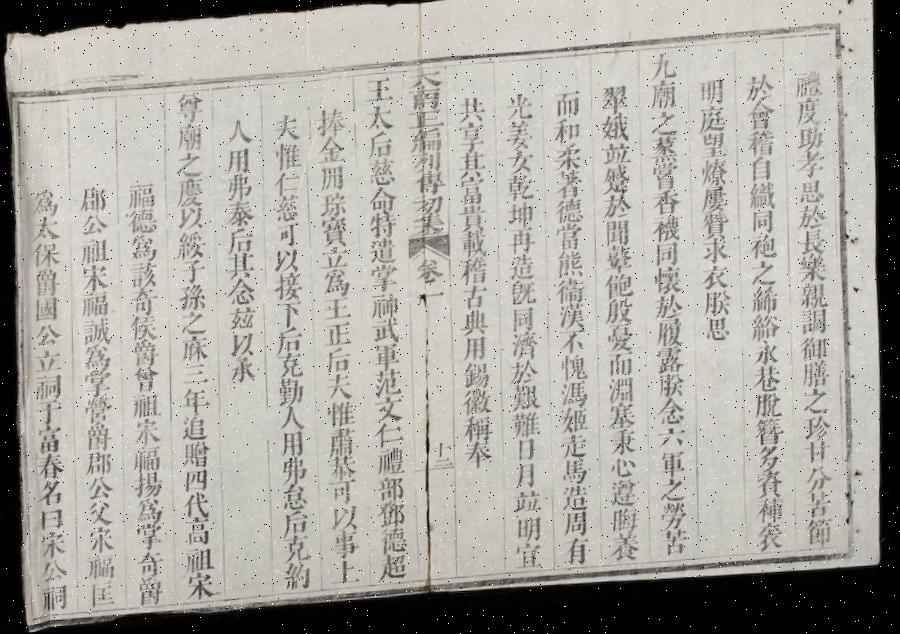c: (171, 92, 206, 126), (501, 123, 536, 156), (317, 218, 351, 251), (742, 78, 777, 110), (790, 75, 826, 106), (123, 180, 159, 211), (406, 130, 445, 158), (454, 96, 488, 128), (174, 231, 208, 263), (694, 80, 728, 112), (222, 116, 256, 148), (178, 387, 213, 418), (609, 537, 644, 568), (548, 93, 584, 123), (314, 109, 348, 140), (646, 86, 680, 117), (374, 449, 408, 480), (330, 531, 364, 562), (795, 260, 830, 290), (510, 414, 545, 444), (125, 234, 160, 264), (599, 170, 634, 200), (175, 284, 210, 314), (598, 118, 633, 148), (182, 574, 219, 602), (405, 89, 443, 116), (270, 114, 302, 146), (598, 88, 630, 120), (646, 56, 679, 87), (135, 577, 168, 608), (603, 329, 637, 359), (270, 144, 304, 174), (748, 292, 782, 322), (551, 147, 585, 177), (130, 418, 164, 448), (796, 288, 830, 318), (803, 524, 837, 554), (458, 176, 488, 210), (84, 525, 118, 555), (280, 536, 314, 566), (744, 136, 778, 166), (282, 564, 316, 594), (325, 430, 359, 460), (696, 164, 730, 194), (77, 237, 112, 266), (361, 78, 396, 107), (84, 553, 120, 581), (79, 318, 115, 346), (124, 208, 160, 236), (182, 548, 218, 576), (371, 424, 408, 451), (502, 95, 534, 126), (754, 474, 786, 505), (649, 166, 681, 197), (34, 423, 66, 454), (365, 160, 398, 190), (367, 266, 400, 296), (653, 324, 686, 354), (553, 254, 586, 284), (77, 184, 110, 214), (508, 336, 541, 366), (315, 138, 348, 168), (30, 240, 63, 270), (746, 188, 779, 218), (755, 528, 788, 558), (457, 208, 490, 238), (173, 124, 206, 154), (173, 178, 206, 208), (557, 358, 590, 388), (503, 178, 536, 208), (224, 253, 258, 282), (655, 403, 689, 432), (324, 403, 358, 432), (748, 320, 782, 349), (318, 272, 352, 301), (752, 424, 786, 453), (78, 264, 112, 293), (558, 410, 592, 439), (378, 529, 412, 558), (86, 581, 120, 610), (656, 454, 690, 483), (82, 423, 116, 452), (179, 442, 213, 471), (222, 201, 256, 230), (375, 503, 410, 531), (125, 262, 160, 290), (377, 556, 412, 584), (461, 418, 496, 446), (133, 551, 168, 579), (370, 372, 405, 400), (554, 308, 590, 335), (608, 483, 640, 513), (413, 260, 445, 290), (552, 174, 584, 204), (696, 110, 728, 140), (658, 506, 690, 536), (182, 518, 214, 548), (744, 108, 776, 138), (792, 104, 824, 134), (272, 274, 304, 304), (607, 433, 640, 462), (751, 371, 784, 400), (652, 272, 685, 301), (650, 220, 683, 249), (462, 444, 495, 473), (275, 380, 308, 409), (372, 398, 406, 426), (81, 370, 115, 398), (132, 472, 166, 500), (362, 107, 396, 135), (368, 296, 402, 324), (457, 262, 491, 290), (127, 314, 161, 342), (509, 388, 543, 416), (554, 282, 588, 310), (797, 316, 831, 344), (130, 446, 164, 474), (552, 228, 586, 256), (172, 152, 206, 180), (793, 157, 827, 185), (513, 546, 547, 574), (658, 534, 692, 562), (132, 523, 166, 551), (178, 416, 212, 444), (178, 337, 212, 365), (793, 211, 828, 238), (324, 458, 360, 484), (654, 430, 690, 456), (562, 541, 593, 571), (130, 340, 162, 369), (461, 365, 493, 394), (506, 231, 538, 260), (366, 213, 398, 242), (278, 458, 310, 487), (803, 497, 835, 526), (800, 394, 832, 423), (29, 188, 61, 217), (364, 134, 396, 163), (698, 217, 730, 246), (558, 437, 591, 465), (799, 368, 832, 396), (323, 376, 356, 404), (461, 392, 494, 420), (603, 277, 636, 305), (222, 174, 255, 202), (699, 270, 732, 298), (602, 250, 635, 278), (404, 112, 446, 134), (606, 407, 639, 435), (329, 506, 362, 534), (82, 344, 115, 372), (39, 584, 72, 612), (455, 126, 488, 154), (320, 324, 354, 351), (649, 195, 683, 222), (552, 202, 586, 229), (411, 174, 446, 200), (272, 196, 302, 226), (323, 349, 354, 378), (32, 267, 61, 298), (32, 373, 64, 401), (560, 488, 592, 516), (460, 314, 492, 342), (654, 352, 686, 380), (84, 450, 116, 478), (605, 381, 637, 409), (604, 303, 636, 331), (82, 396, 114, 424), (128, 288, 160, 316), (748, 266, 780, 294), (35, 452, 67, 480), (609, 511, 641, 539), (456, 152, 488, 180), (38, 530, 70, 558), (804, 471, 836, 499), (648, 139, 680, 167), (513, 518, 545, 546), (224, 228, 256, 256), (697, 138, 729, 166), (280, 486, 312, 514), (36, 478, 68, 506), (181, 492, 213, 520), (753, 398, 785, 426), (226, 280, 258, 308), (702, 296, 734, 324), (129, 367, 162, 394), (698, 192, 731, 219), (652, 299, 685, 326), (129, 393, 162, 420), (550, 122, 583, 149), (795, 185, 828, 212), (375, 478, 408, 505), (647, 115, 680, 142), (133, 498, 166, 525), (798, 342, 832, 368), (320, 299, 354, 325), (600, 198, 634, 224), (78, 292, 112, 318), (507, 364, 541, 390), (330, 561, 364, 587), (368, 322, 402, 348), (796, 236, 830, 262), (404, 70, 444, 92), (602, 223, 632, 252), (460, 288, 491, 316), (506, 258, 537, 286), (508, 284, 539, 312), (274, 330, 306, 357), (366, 189, 398, 216), (558, 386, 590, 413), (747, 240, 779, 267), (410, 198, 446, 222), (366, 241, 398, 268), (794, 132, 826, 159), (802, 421, 834, 448), (458, 235, 490, 262), (513, 493, 545, 520), (655, 378, 688, 404), (280, 513, 313, 539), (755, 504, 788, 530), (326, 482, 359, 508), (600, 146, 633, 172), (316, 195, 350, 220), (272, 248, 302, 276), (222, 148, 252, 176), (754, 451, 784, 479), (410, 216, 445, 240), (561, 514, 591, 542), (86, 500, 116, 528), (278, 432, 308, 460), (505, 206, 536, 233), (275, 355, 306, 382), (560, 462, 591, 489), (273, 304, 305, 330), (177, 312, 209, 338), (504, 154, 536, 180), (33, 348, 65, 374), (38, 558, 70, 584), (658, 482, 690, 508), (78, 212, 110, 238), (371, 346, 403, 372), (699, 244, 731, 270), (604, 357, 636, 383), (556, 334, 588, 360), (226, 308, 259, 333), (178, 364, 211, 389), (228, 358, 257, 386), (272, 173, 302, 200), (317, 168, 347, 195), (461, 339, 491, 366), (703, 323, 733, 350), (227, 334, 258, 360), (33, 322, 64, 348), (85, 476, 116, 502), (181, 469, 213, 494), (174, 207, 206, 232), (176, 260, 208, 285), (750, 348, 782, 373), (38, 505, 68, 531), (278, 408, 308, 434), (34, 399, 64, 425), (747, 216, 778, 241), (802, 447, 833, 472), (745, 164, 776, 189), (414, 290, 446, 314), (319, 249, 351, 273), (607, 461, 640, 484), (510, 310, 538, 337), (408, 155, 444, 176), (273, 224, 302, 250), (652, 247, 681, 273), (31, 216, 61, 241), (514, 466, 541, 492), (34, 296, 61, 322), (514, 442, 541, 466), (432, 442, 454, 464), (435, 462, 454, 471)
